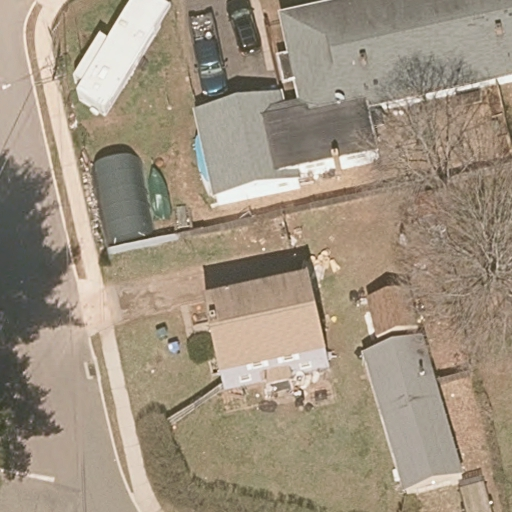DT: (34, 37, 65, 86)
